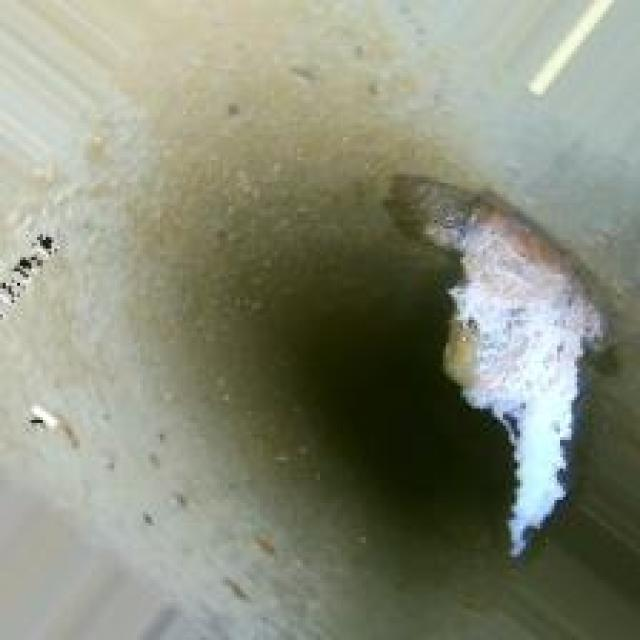ferrule: (426, 180, 603, 557)
